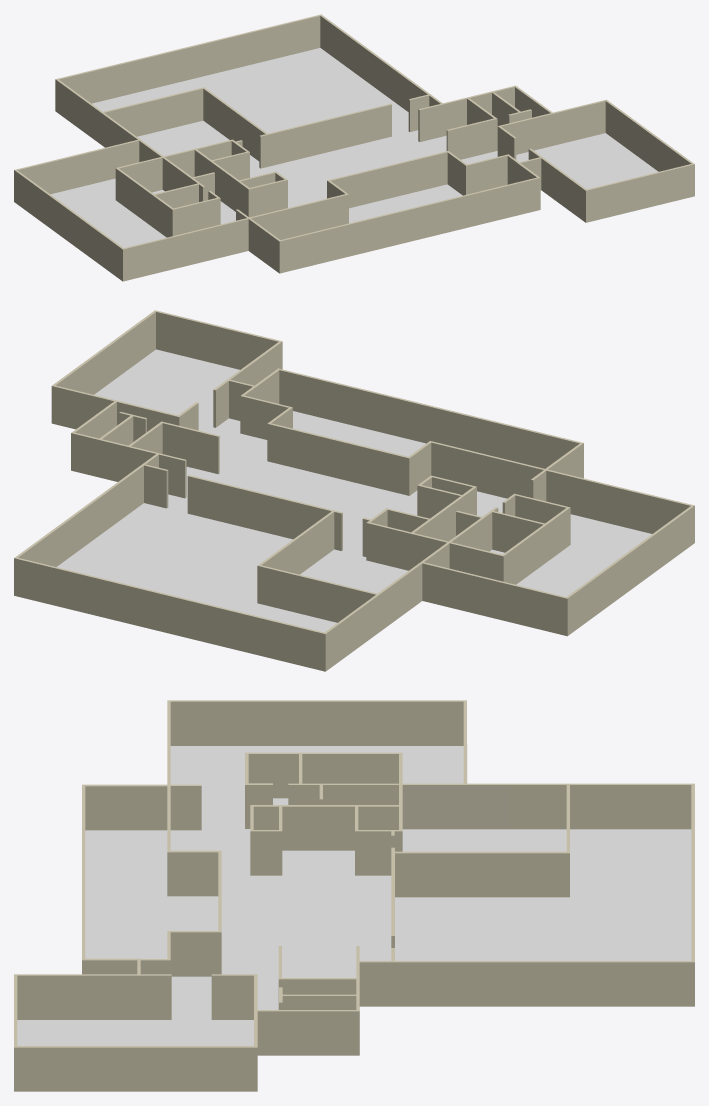
Rendered from b1_floor.gltf.
The picture shows the model from 3 angles, top to bottom: view 1: azimuth 30°, elevation 25°; view 2: azimuth 150°, elevation 25°; view 3: azimuth 270°, elevation 25°; orthographic projection. The views are drawn at different scales.
Visible parts, largest first — view 1: bl_wall, b1_floor; view 2: bl_wall, b1_floor; view 3: bl_wall, b1_floor.
Boxes of the visible parts, left/top/right/bottom form: bl_wall: left=14, top=14, right=694, bottom=281; b1_floor: left=16, top=48, right=658, bottom=278; bl_wall: left=14, top=310, right=694, bottom=671; b1_floor: left=57, top=349, right=687, bottom=655; bl_wall: left=14, top=700, right=694, bottom=1091; b1_floor: left=17, top=744, right=691, bottom=1055.
Size of the model in its own units: 13.49 by 0.8 by 11.18.
